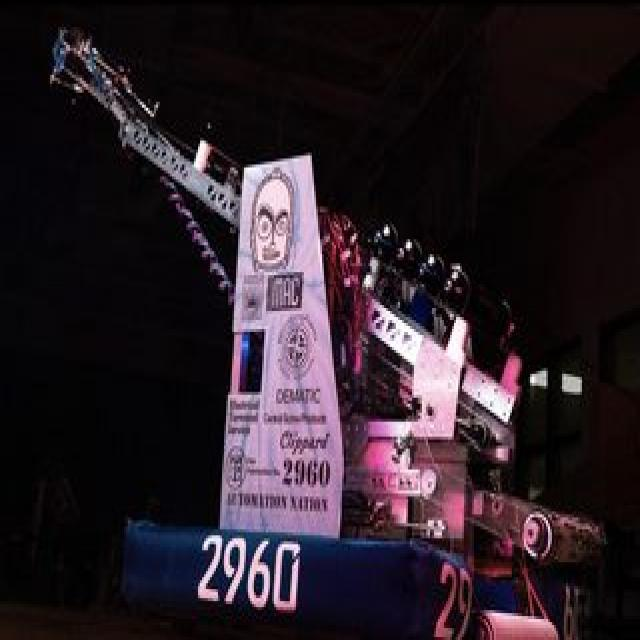robot: (39, 16, 615, 637)
